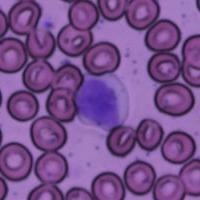L: (76, 75, 131, 130)
